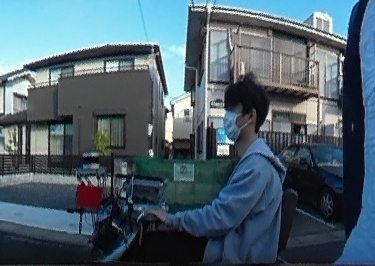person: (185, 71, 280, 266)
